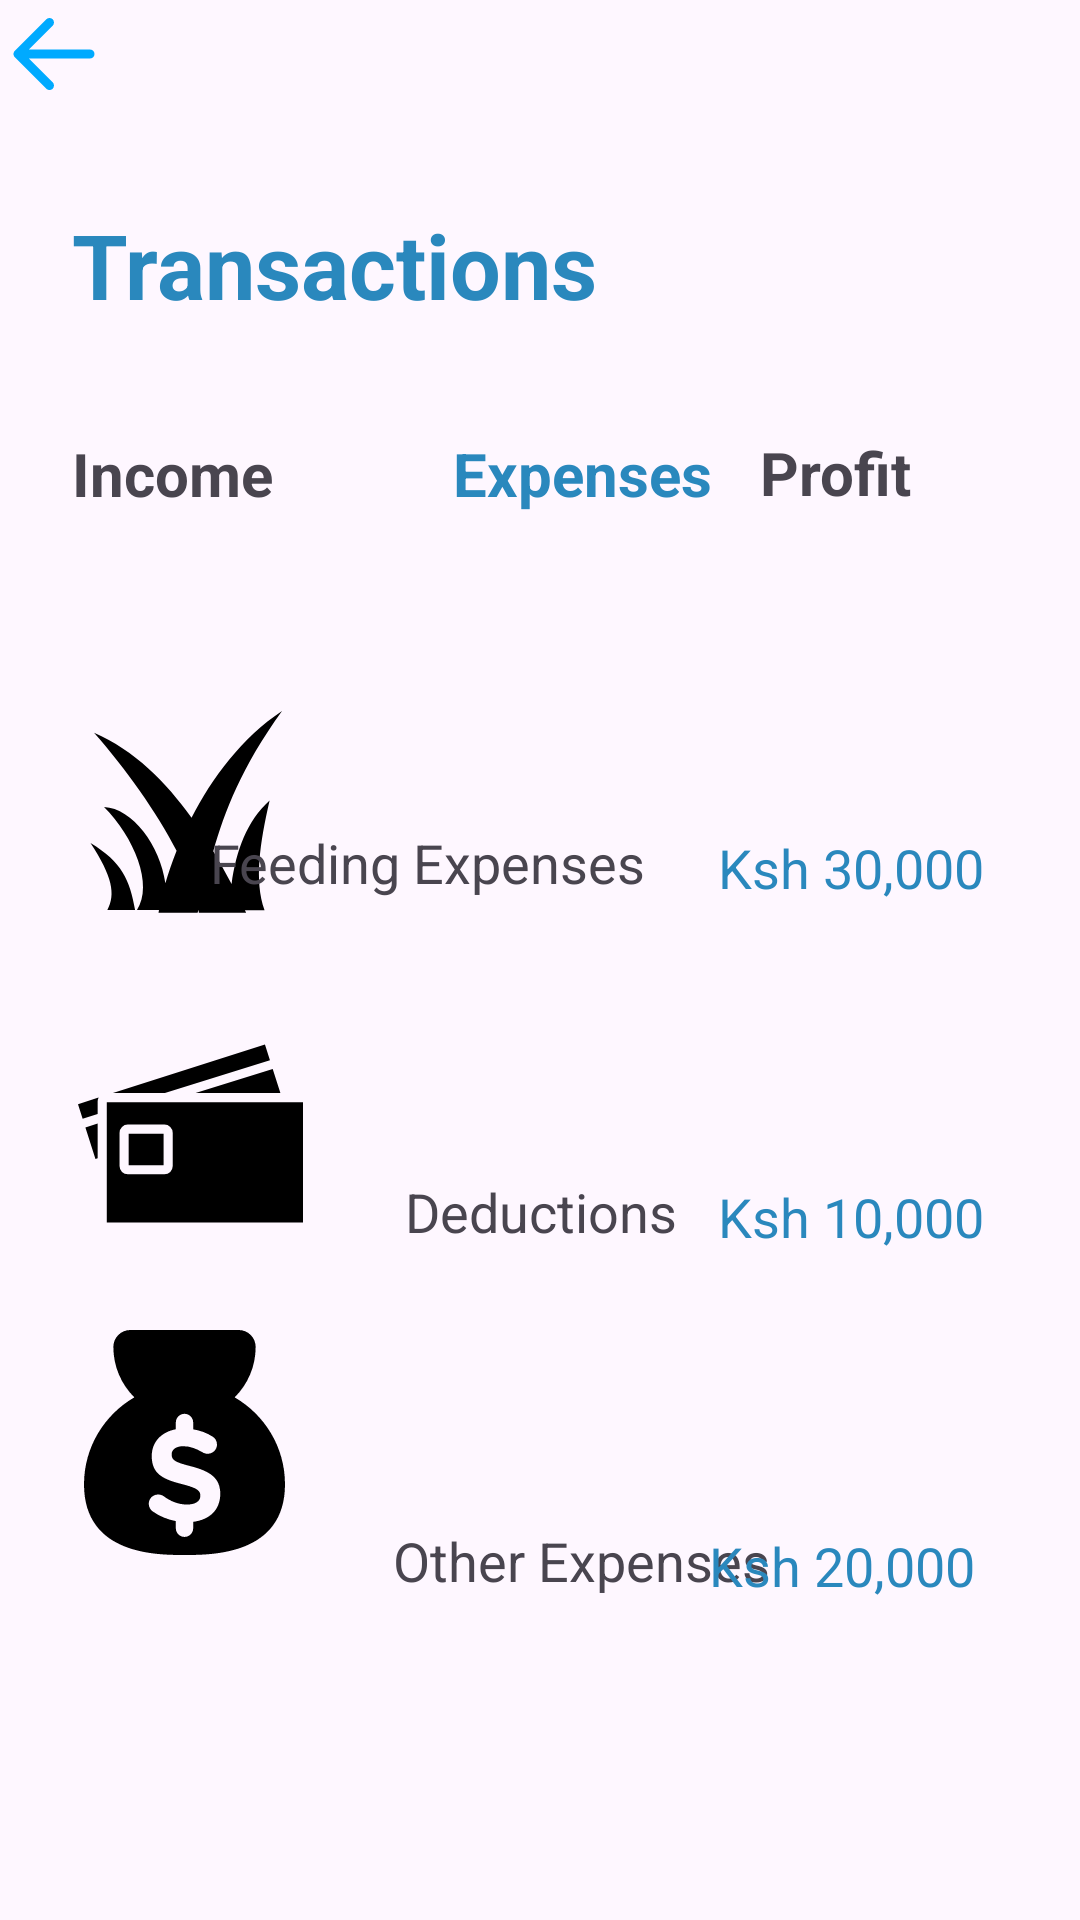

Locate icon controls on the screen. Image size 1080px x 1920px, boxes as (x1=x1, y1=y1, x2=x2, y2=y2).
arrow: (x1=13, y1=18, x2=95, y2=90)
bag of money: (x1=84, y1=1330, x2=285, y2=1555)
cards id card: (x1=78, y1=1044, x2=303, y2=1223)
